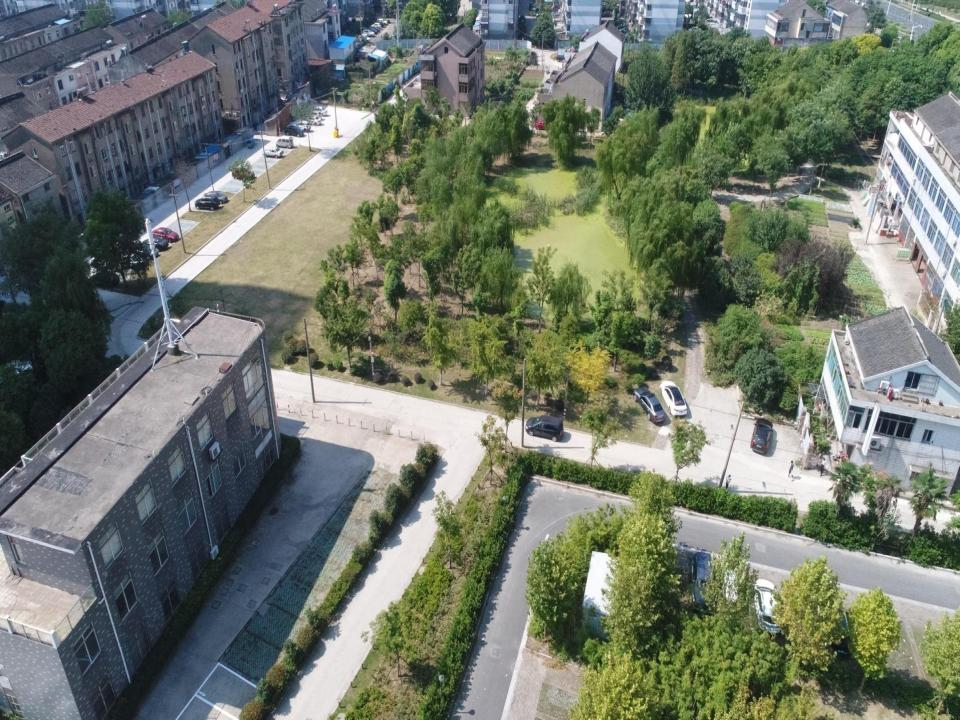car: (690, 548, 715, 612), (754, 577, 783, 631), (722, 565, 749, 623), (631, 388, 667, 424), (658, 380, 689, 417), (749, 415, 775, 454), (526, 414, 563, 438), (88, 271, 119, 286), (150, 227, 179, 243), (142, 236, 168, 252), (133, 243, 158, 259), (202, 190, 228, 204), (195, 196, 219, 210), (261, 146, 284, 158), (284, 125, 304, 137), (305, 114, 322, 126), (294, 120, 310, 132), (310, 106, 328, 116), (534, 120, 550, 130), (308, 109, 322, 117), (361, 29, 375, 35), (370, 22, 382, 29), (557, 53, 567, 61), (377, 17, 388, 24), (368, 27, 378, 33), (376, 21, 384, 27)
van: (276, 136, 294, 148)
